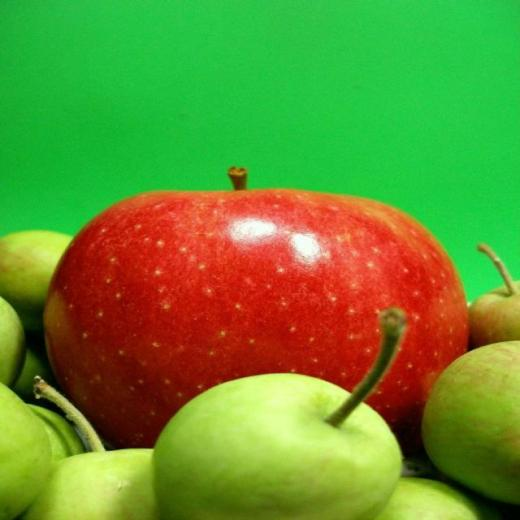Apple: (45, 168, 470, 448)
